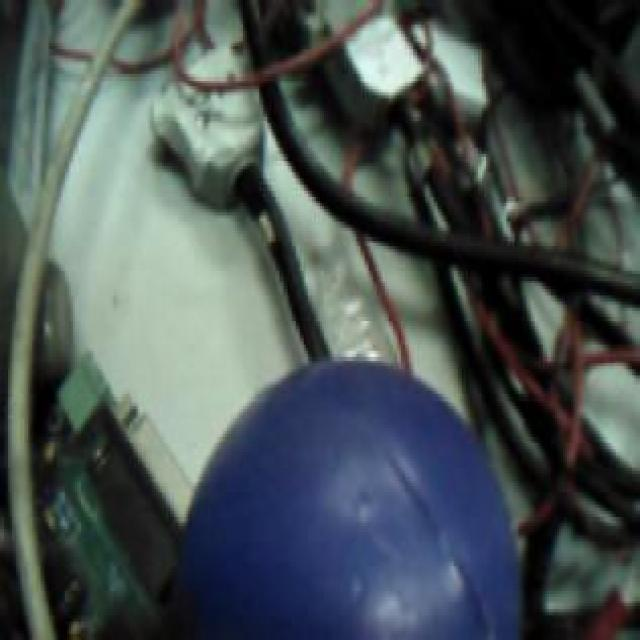BallPurple: (180, 363, 522, 640)
